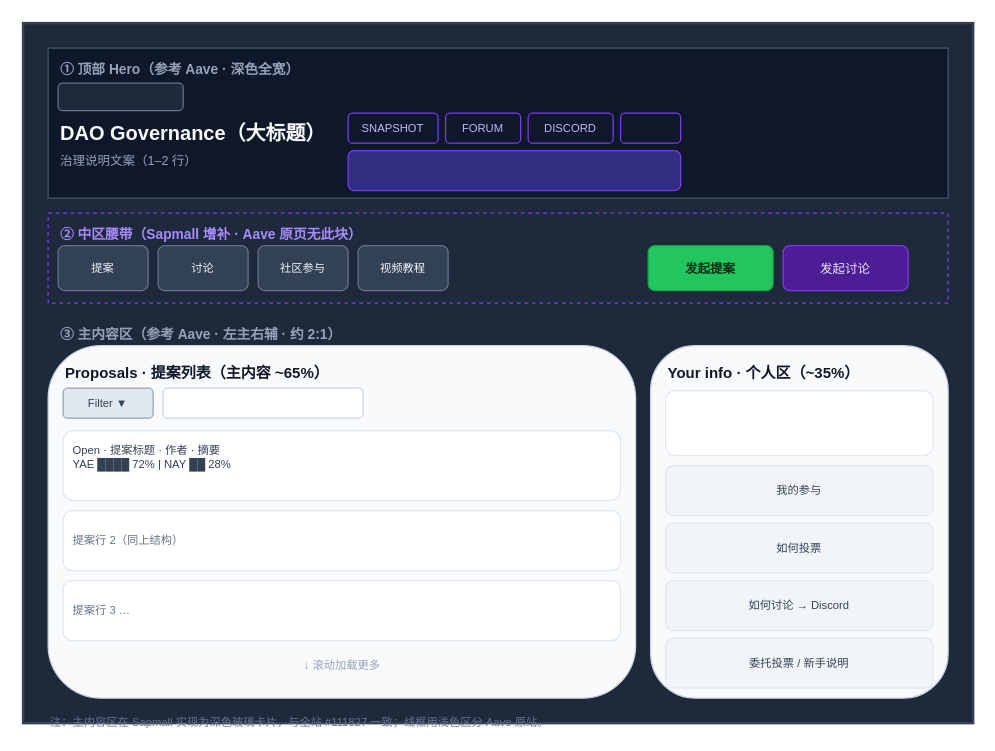
The diagram is 995 pixels wide and 751 high, and some of its shapes have lost their labels. The shapes that lost their labels are listed below. From the top down, each one's box as (x1, y1, x2, y2) in pixels, then its label:
(57, 82, 183, 111): 网络 / 环境标签
(619, 112, 681, 143): FAQ
(347, 149, 681, 191): [Sapmall] Tab：进行中提案 | 热门讨论 [Sapmall] 轮播 4 条 · 自动播放
(162, 387, 363, 418): Search proposals...
(664, 389, 933, 456): 未连接：请连接钱包查看个人信息 [ Connect wallet ]
